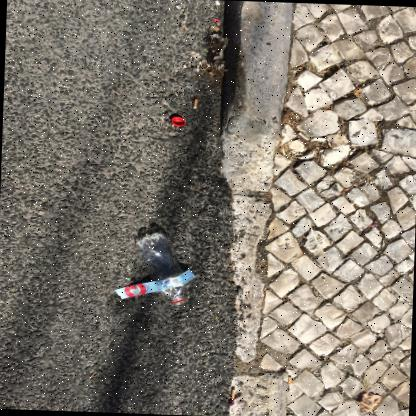Cigarette: (193, 99, 198, 110), (327, 138, 332, 148), (231, 390, 236, 399), (288, 377, 291, 386)
Clear plastic bottle: (135, 233, 186, 306)
Plastic bottle cap: (172, 117, 186, 127)
Wrapping paper: (115, 269, 195, 299)
